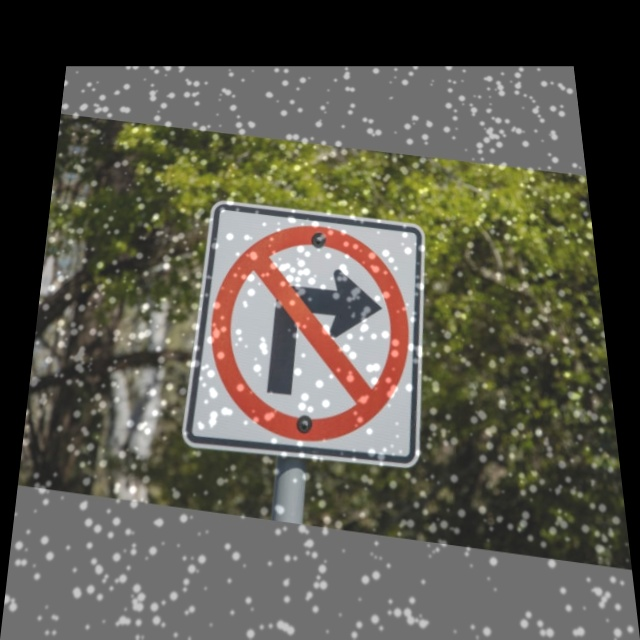Right_Turn_Prohibited: (187, 214, 434, 455)
